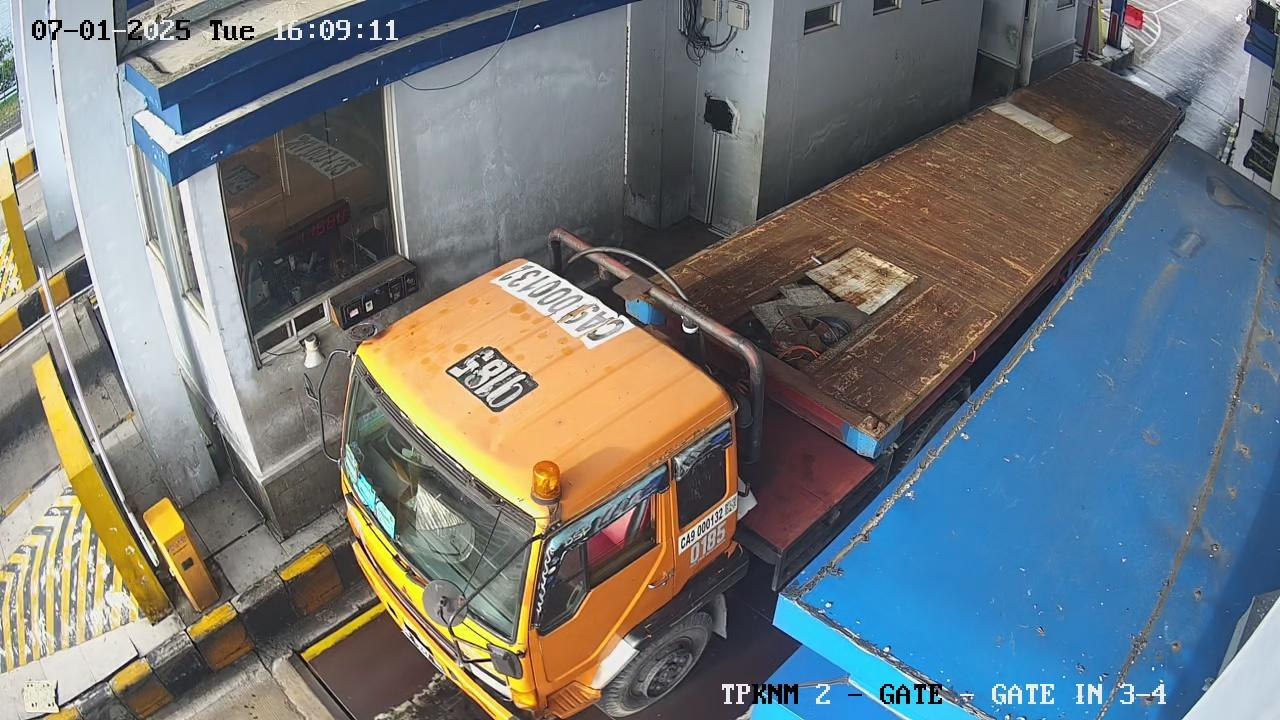truck_id: (491, 260, 635, 348), (678, 492, 739, 556)
